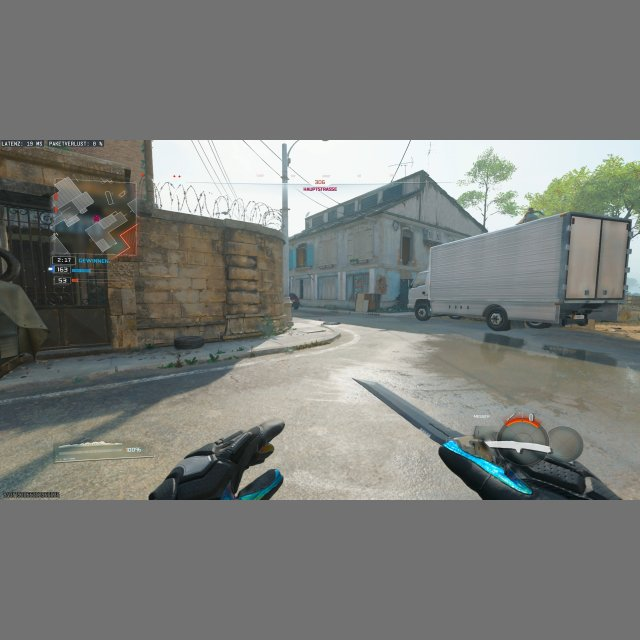player: (290, 292, 301, 311)
